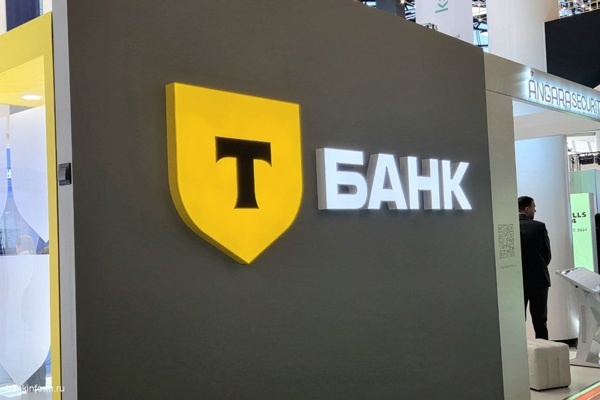TBank: (165, 83, 304, 265)
